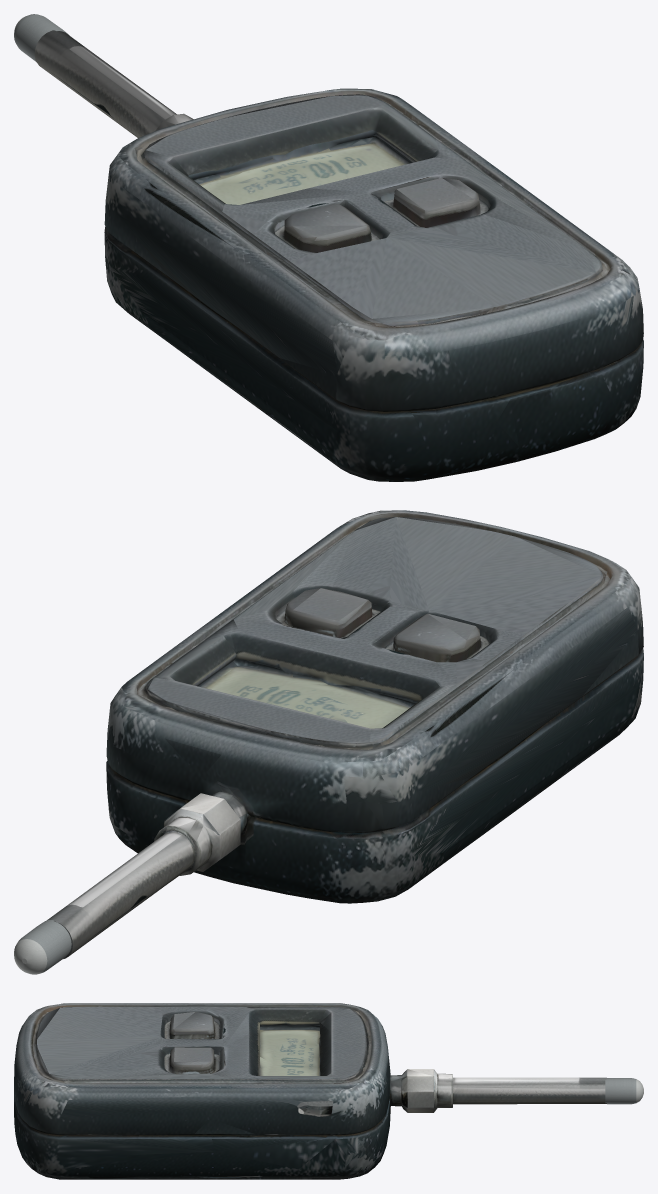
File: Pickup_Thermometer.fbx
3 renders of one model, top to bottom at view 1: azimuth 30°, elevation 25°; view 2: azimuth 150°, elevation 25°; view 3: azimuth 270°, elevation 25°, orthographic. The views are drawn at different scales.
Parts seen in each view (by area): view 1: Pickup_Thermometer; view 2: Pickup_Thermometer; view 3: Pickup_Thermometer.
Boxes of the visible parts, bbox=[...] form: Pickup_Thermometer: bbox=[14, 14, 643, 481]; Pickup_Thermometer: bbox=[14, 510, 643, 974]; Pickup_Thermometer: bbox=[14, 1003, 643, 1179].
Size of the model in its own units: 4.9 by 2.53 by 14.
